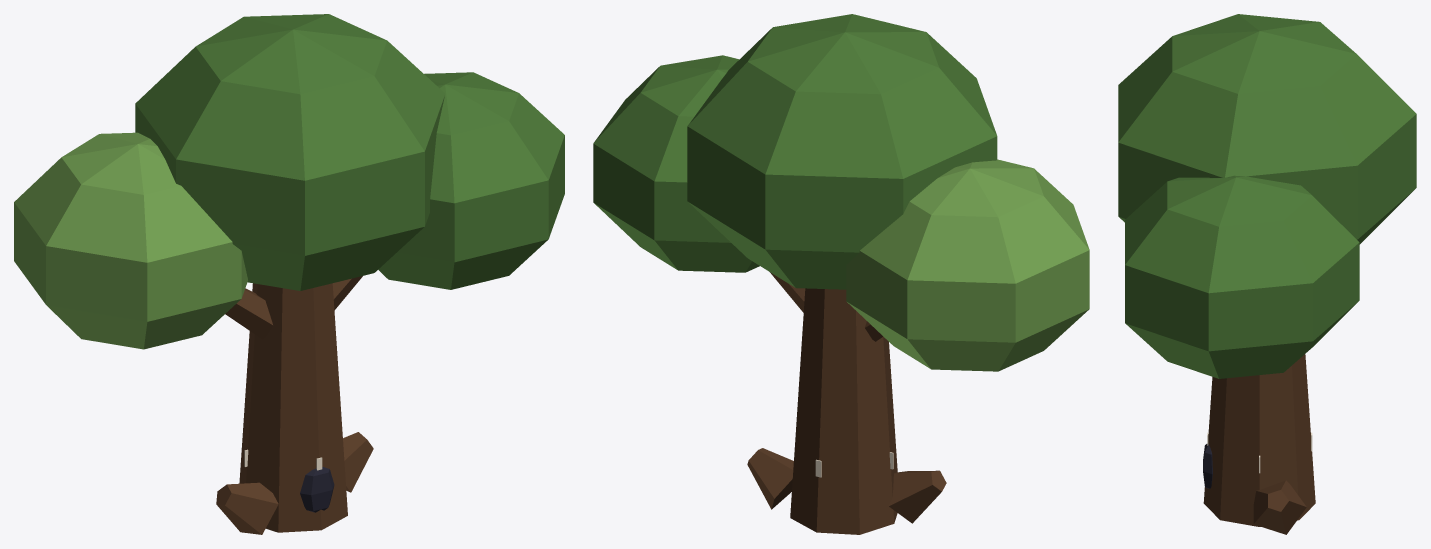
File: prop_old_tree.glb
3 renders of one model, left to right at view 1: azimuth 30°, elevation 25°; view 2: azimuth 150°, elevation 25°; view 3: azimuth 270°, elevation 25°, orthographic.
Visible parts, largest first — view 1: prop_old_tree; view 2: prop_old_tree; view 3: prop_old_tree.
Boxes of the visible parts, x1=… form: prop_old_tree: x1=14, y1=14, x2=564, y2=534; prop_old_tree: x1=593, y1=14, x2=1089, y2=534; prop_old_tree: x1=1118, y1=14, x2=1416, y2=534.
Size of the model in its own units: 9.48 by 8.89 by 5.06.
